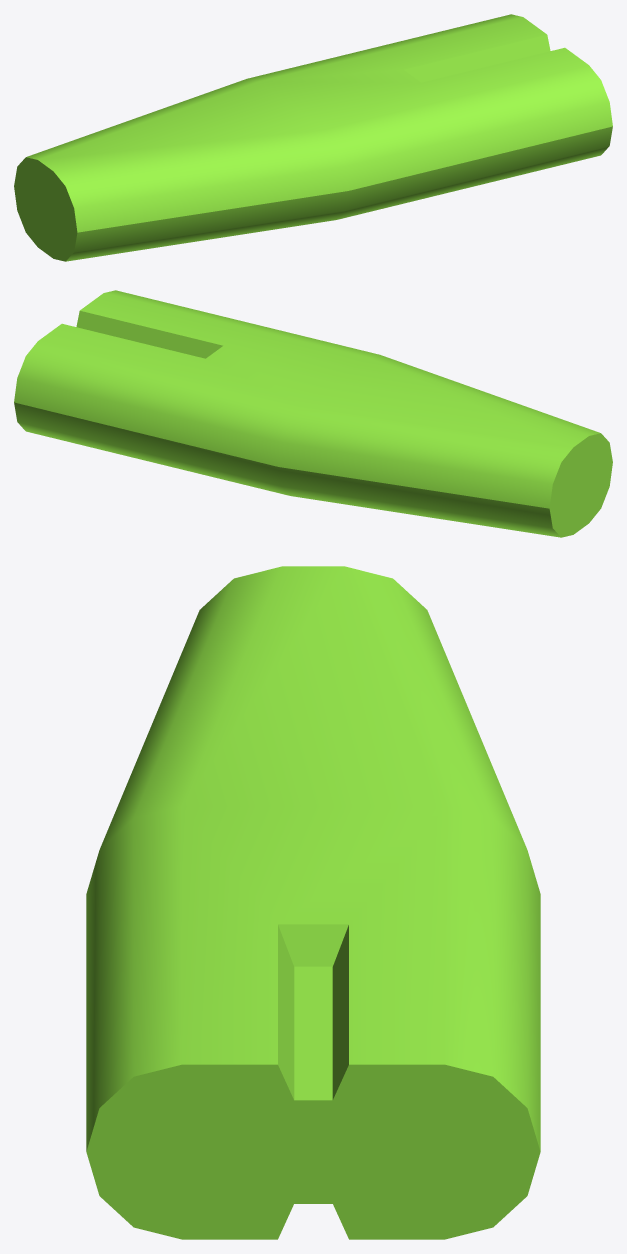
Rendered from SM_PowerA_2.fbx.
The picture shows the model from 3 angles, top to bottom: view 1: azimuth 30°, elevation 25°; view 2: azimuth 150°, elevation 25°; view 3: azimuth 270°, elevation 25°; orthographic projection. The views are drawn at different scales.
Parts seen in each view (by area): view 1: SM_PowerA_2; view 2: SM_PowerA_2; view 3: SM_PowerA_2.
Part boxes in pixels (x1,y1,x2,y2): SM_PowerA_2: [14, 14, 612, 261]; SM_PowerA_2: [14, 290, 612, 537]; SM_PowerA_2: [86, 566, 540, 1239].
Size of the model in its own units: 4.57 by 0.748 by 1.76.
